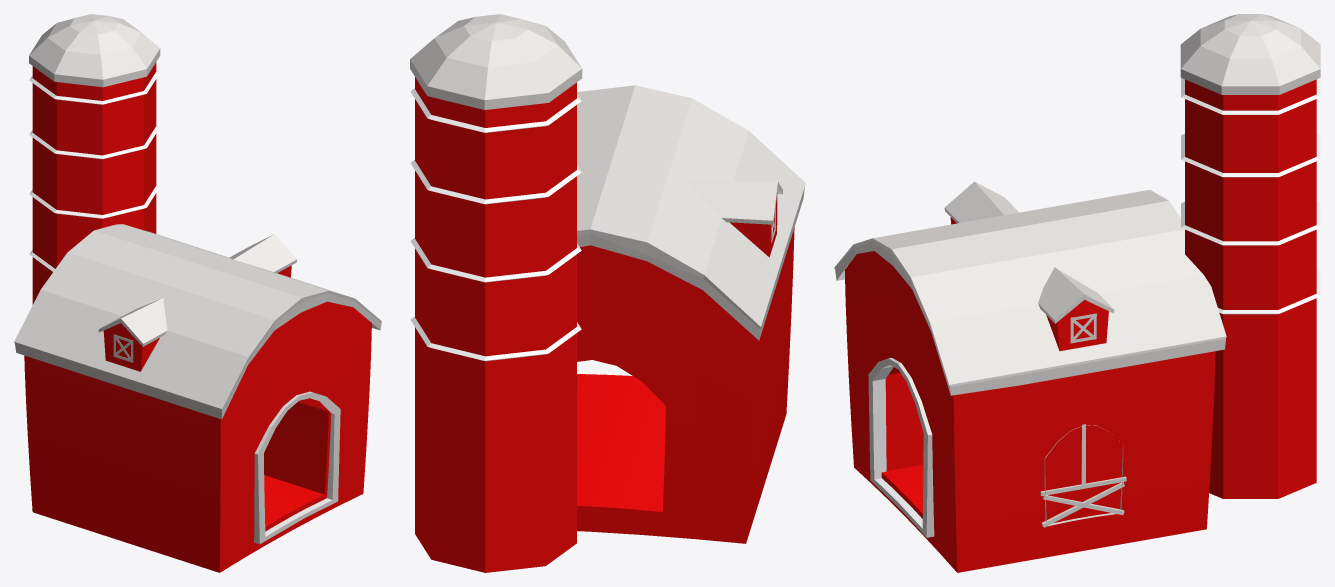
The model's file is barn.glb.
3 renders of one model, left to right at view 1: azimuth 30°, elevation 25°; view 2: azimuth 150°, elevation 25°; view 3: azimuth 270°, elevation 25°, orthographic. The views are drawn at different scales.
Visible parts, largest first — view 1: Haus_2, Dach, Silo_1, Silo_1_2, Boole_2, Torus_4, Cube_1, Cube_1_2, Cube; view 2: Silo_1, Haus_2, Dach, Silo_1_2, Torus_4, Cube_1, Cube; view 3: Haus_2, Dach, Silo_1, Silo_1_2, Boole_2, Torus_4, Cube_1_2, Cube_1, Cube_3.
Part boxes in pixels (<box>): Haus_2: <box>24,301,371,572</box>; Dach: <box>14,224,381,419</box>; Silo_1: <box>32,62,156,304</box>; Silo_1_2: <box>29,14,160,87</box>; Boole_2: <box>254,391,340,544</box>; Torus_4: <box>29,71,159,271</box>; Cube_1: <box>98,298,167,346</box>; Cube_1_2: <box>229,234,297,272</box>; Cube: <box>103,323,159,371</box>; Silo_1: <box>415,77,576,572</box>; Haus_2: <box>577,228,794,543</box>; Dach: <box>577,85,805,340</box>; Silo_1_2: <box>410,14,582,109</box>; Torus_4: <box>410,88,581,361</box>; Cube_1: <box>687,180,782,224</box>; Cube: <box>729,193,777,257</box>; Haus_2: <box>844,251,1215,572</box>; Dach: <box>834,190,1226,395</box>; Silo_1: <box>1185,79,1316,498</box>; Silo_1_2: <box>1180,14,1320,94</box>; Boole_2: <box>868,357,934,537</box>; Torus_4: <box>1181,78,1320,314</box>; Cube_1_2: <box>1038,267,1114,323</box>; Cube_1: <box>944,181,1018,223</box>; Cube_3: <box>1046,299,1108,351</box>.
Size of the model in its own units: 276 by 367 by 342.
